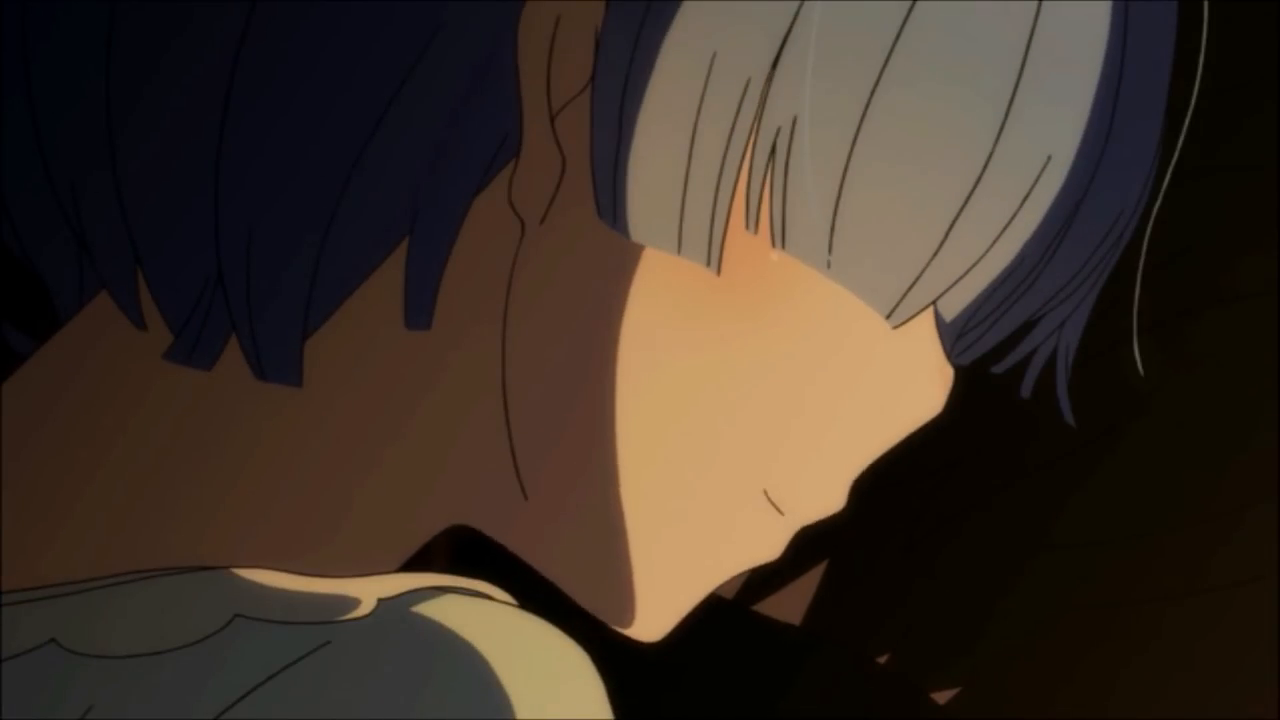REM: (5, 1, 1171, 656)
